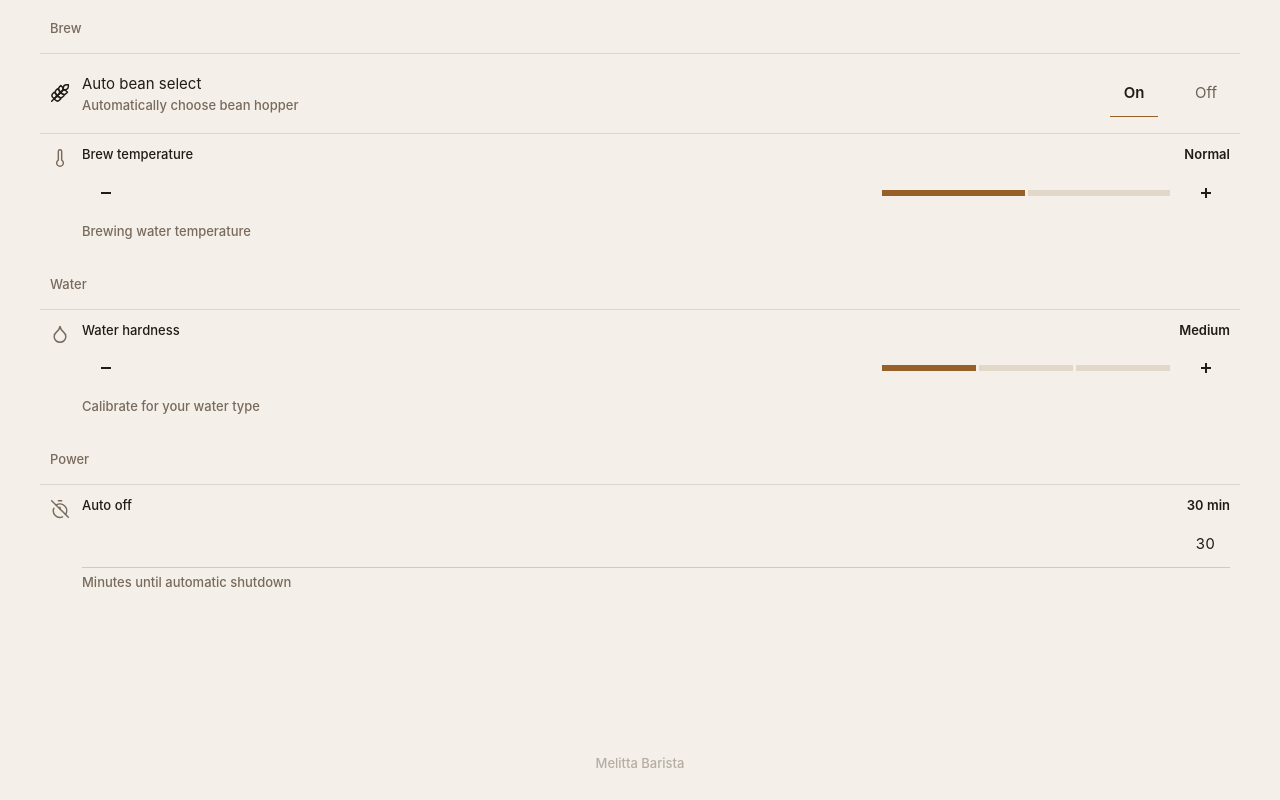
it: SettingsSection visual contract › gives every numeric row a localized discrete step (C34)
This screenshot has width=1280, height=800.
Click the button named "Increase" below "Medium" at (1206, 368), box [1182,344,1230,392]
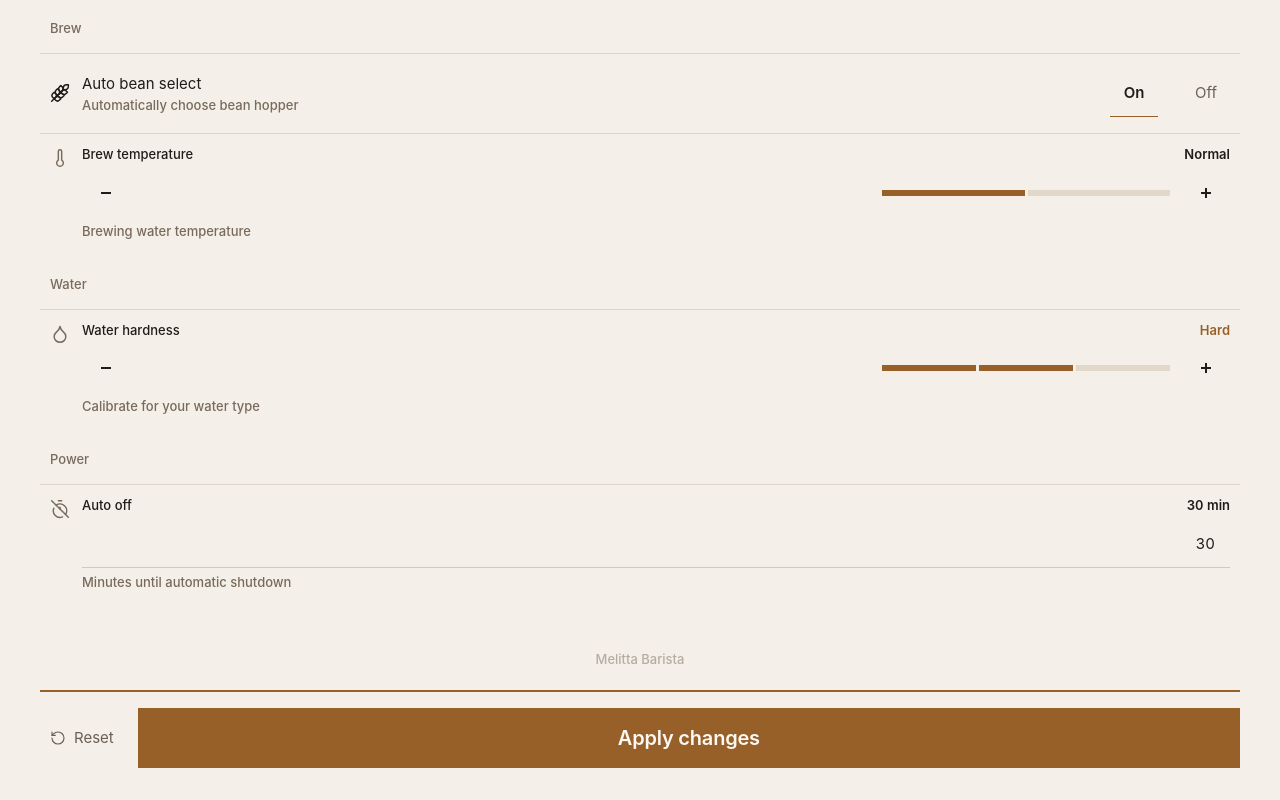
Result: the text "Hard" is shown at [1200,322,1230,338]
